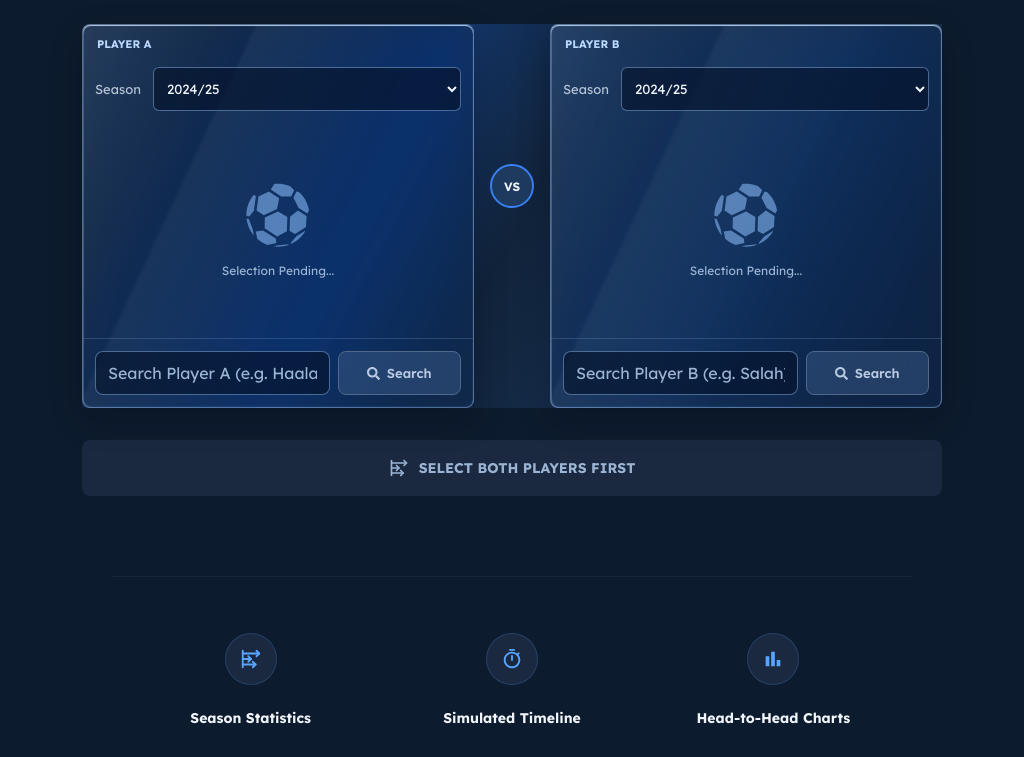
Test case: a failed navbar lookup retains both drafts and the successfully resolved player
(page scrolled)
In the field labelled "Player A": (212, 373) [95,351,330,395], type "Player One"
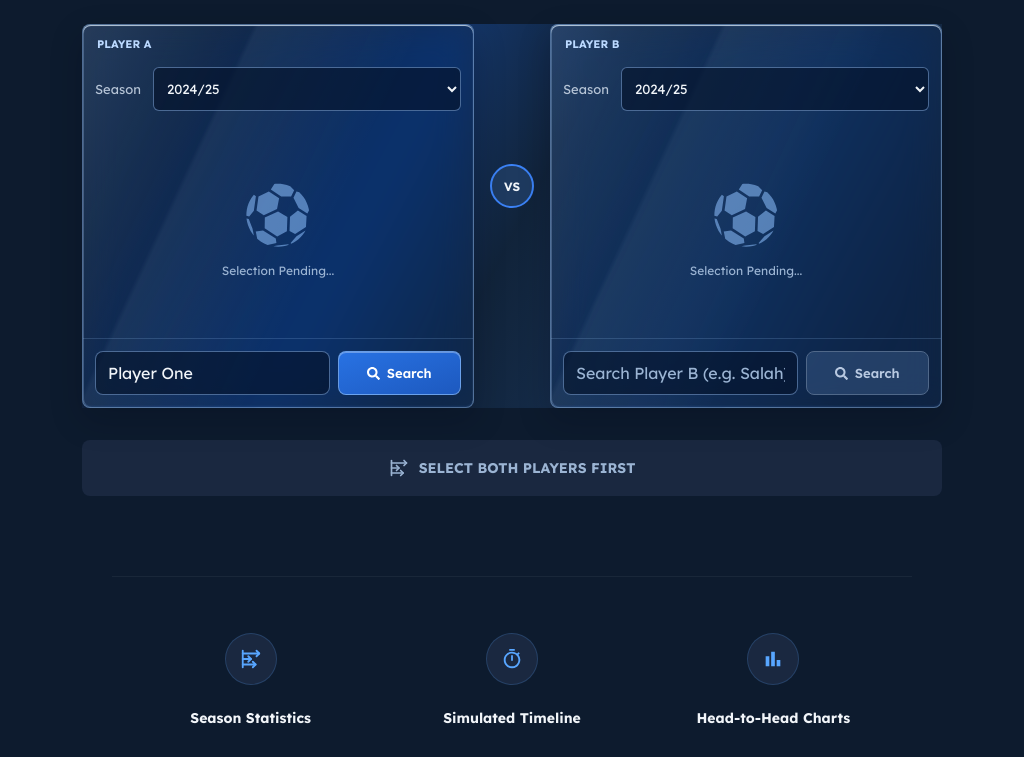
In the field labelled "Player B": (680, 373) [563,351,798,395], type "Player Two"
(page scrolled)
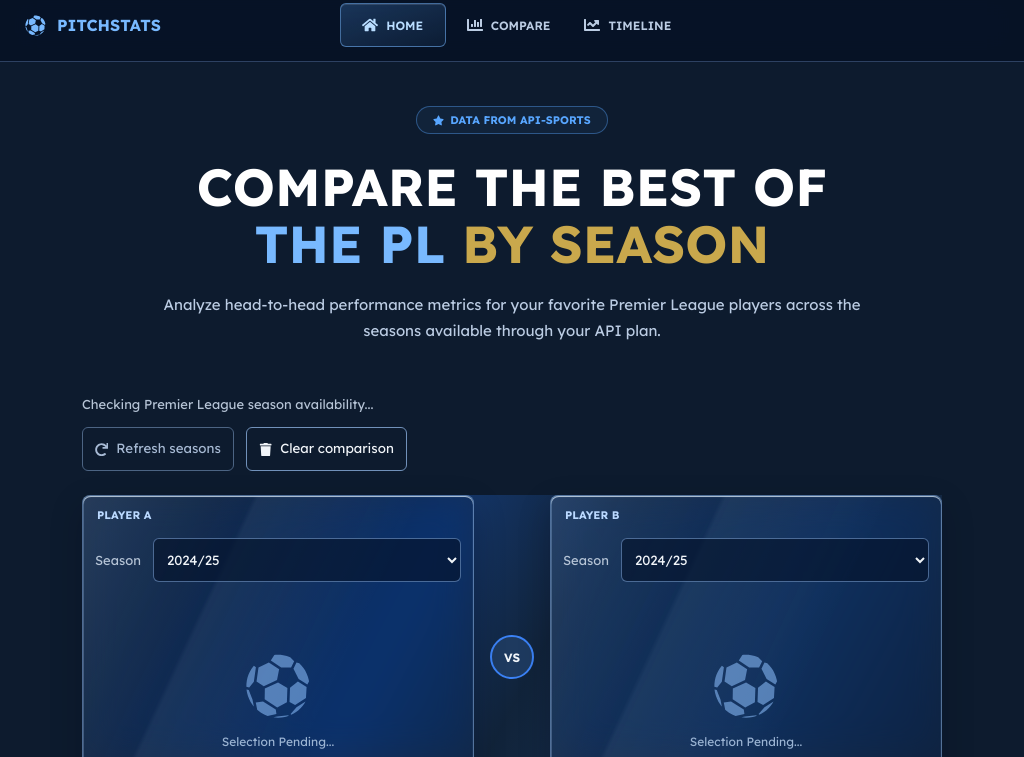
Click the link "TIMELINE": (628, 25) [584,17,671,33]
(page scrolled)
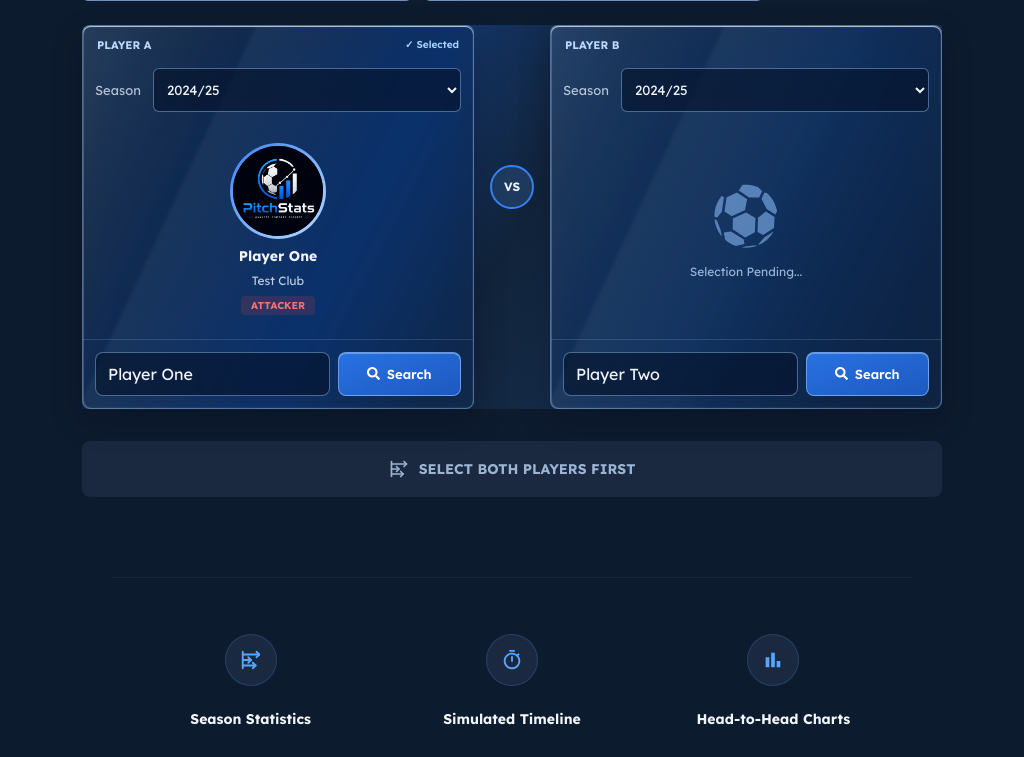
Expected: the heading "Player One" is shown, [239,247,317,265]
